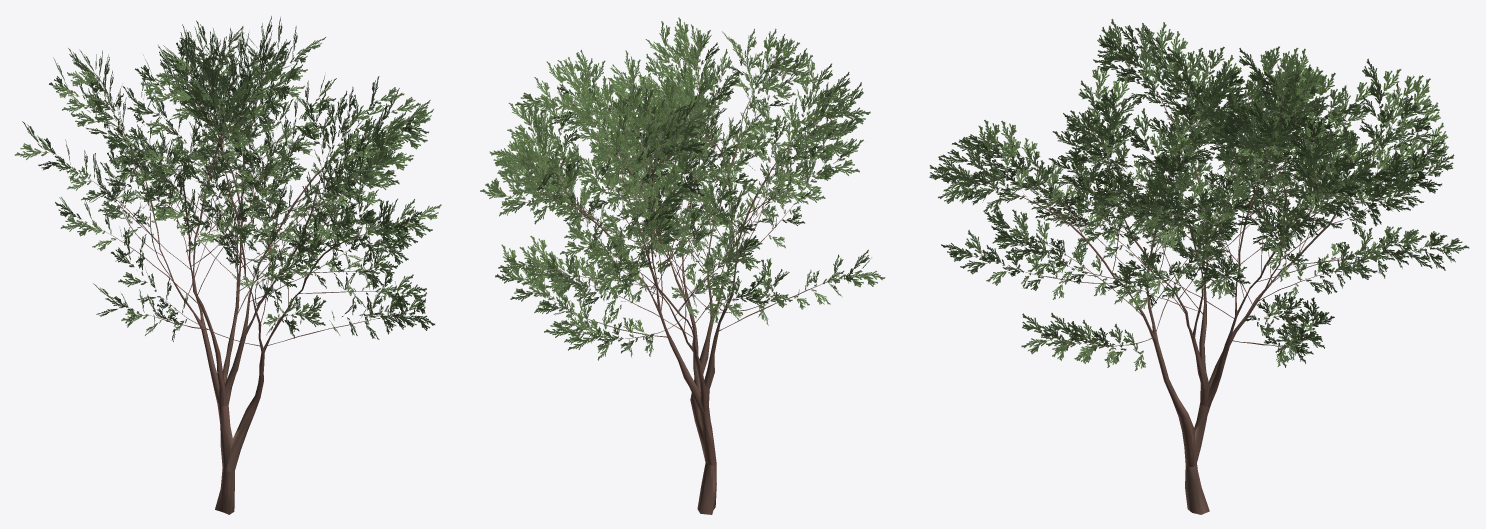
The model's file is tree_model2.fbx.
3 renders of one model, left to right at view 1: azimuth 30°, elevation 25°; view 2: azimuth 150°, elevation 25°; view 3: azimuth 270°, elevation 25°, orthographic. The views are drawn at different scales.
Visible parts, largest first — view 1: keyakiPark1Leaf, keyakiPark1Main; view 2: keyakiPark1Leaf, keyakiPark1Main; view 3: keyakiPark1Leaf, keyakiPark1Main.
Boxes of the visible parts, x1=… form: keyakiPark1Leaf: x1=14, y1=16, x2=441, y2=341; keyakiPark1Main: x1=87, y1=85, x2=383, y2=514; keyakiPark1Leaf: x1=480, y1=17, x2=885, y2=360; keyakiPark1Main: x1=543, y1=85, x2=828, y2=514; keyakiPark1Leaf: x1=929, y1=19, x2=1469, y2=370; keyakiPark1Main: x1=997, y1=86, x2=1392, y2=514.
Bounding box in the file's own units: 3.57 × 4.38 × 4.68.
